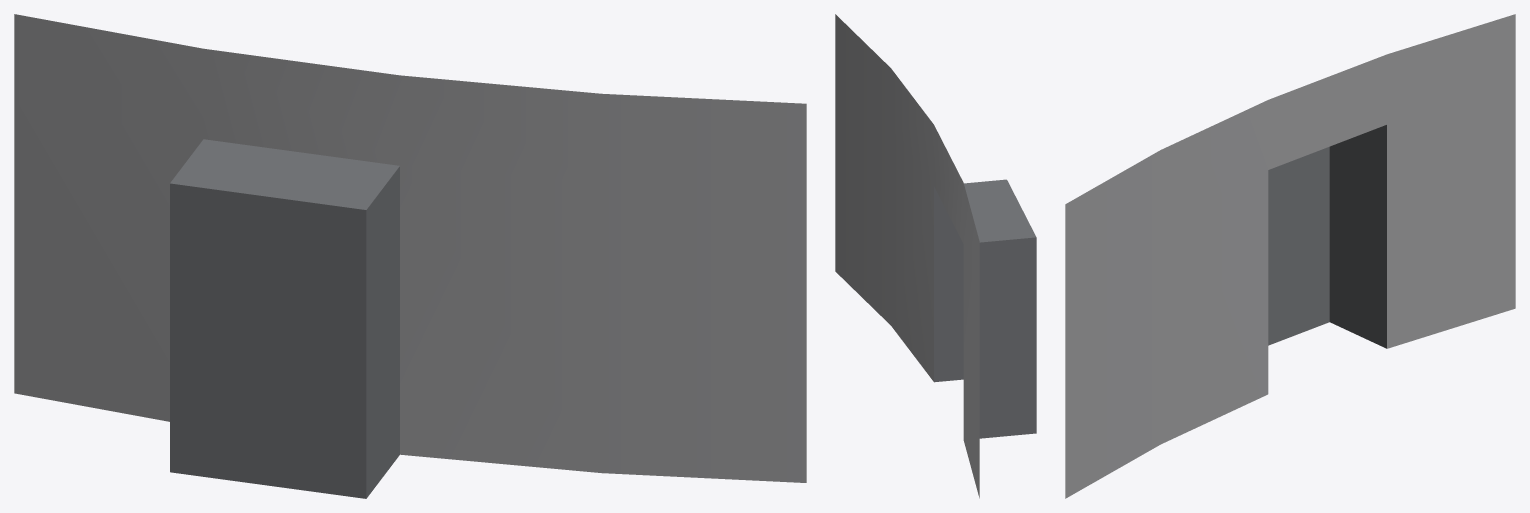
Rendered from MCM_W_002.fbx.
3 renders of one model, left to right at view 1: azimuth 30°, elevation 25°; view 2: azimuth 150°, elevation 25°; view 3: azimuth 270°, elevation 25°, orthographic. The views are drawn at different scales.
Visible parts, largest first — view 1: MCM_W_002; view 2: MCM_W_002; view 3: MCM_W_002.
Boxes of the visible parts, <box> form: MCM_W_002: <box>14,14,806,498</box>; MCM_W_002: <box>835,14,1036,498</box>; MCM_W_002: <box>1065,14,1515,498</box>.
Bounding box in the file's own units: 6.93 × 6.93 × 5.
Materials: 1 (1 with a texture image).
